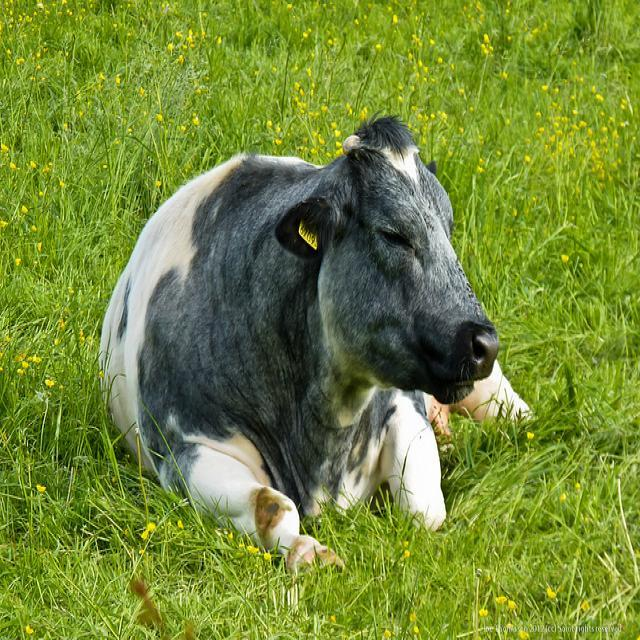cow: (97, 114, 530, 582)
